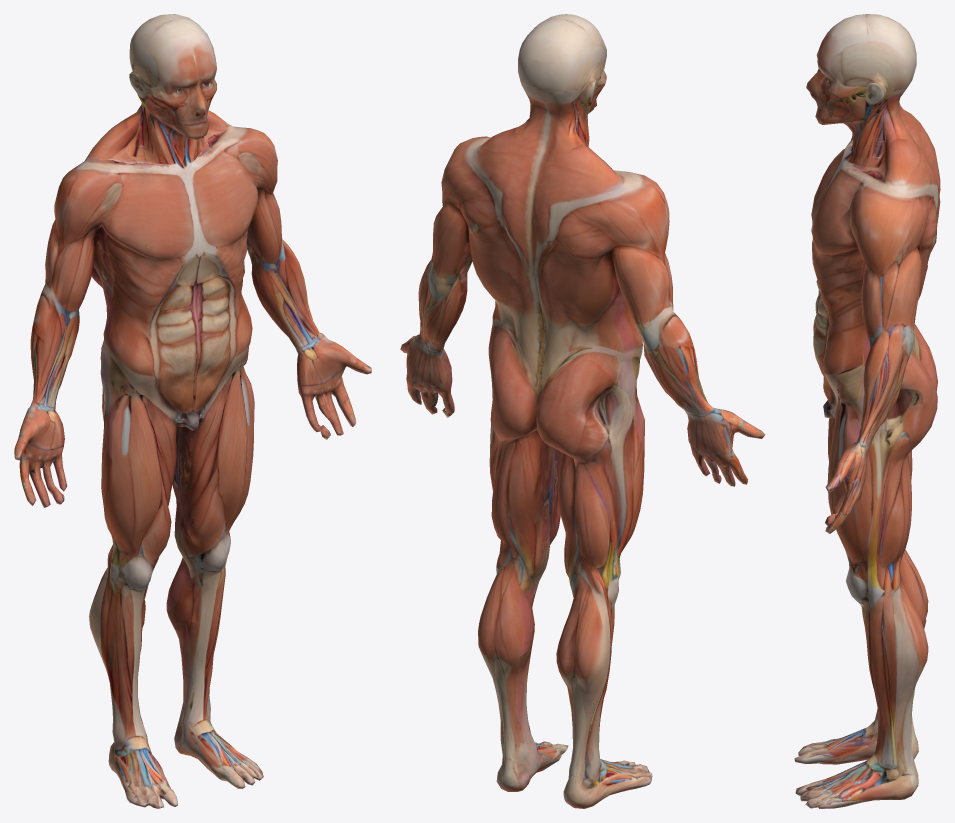
File: 2mbButLowQuality.glb
3 renders of one model, left to right at view 1: azimuth 30°, elevation 25°; view 2: azimuth 150°, elevation 25°; view 3: azimuth 270°, elevation 25°, orthographic.
Bounding box in the file's own units: 0.9934 × 2 × 0.348.
1 material, 1 textured.
